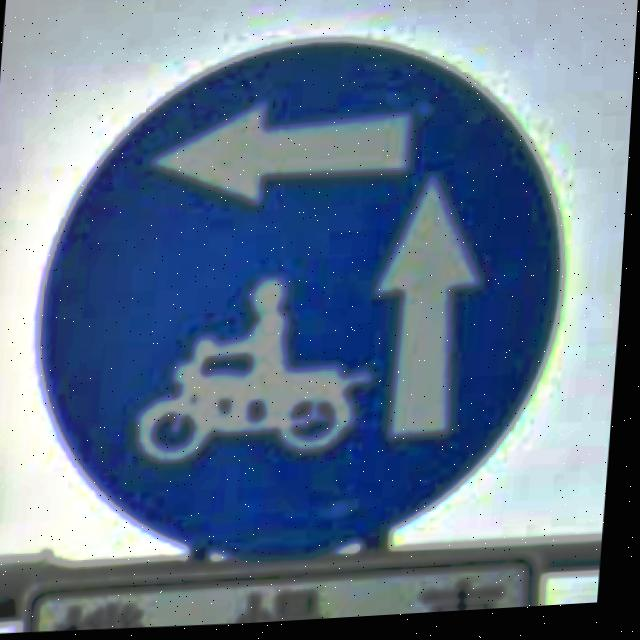twostageturn: (40, 45, 565, 561)
